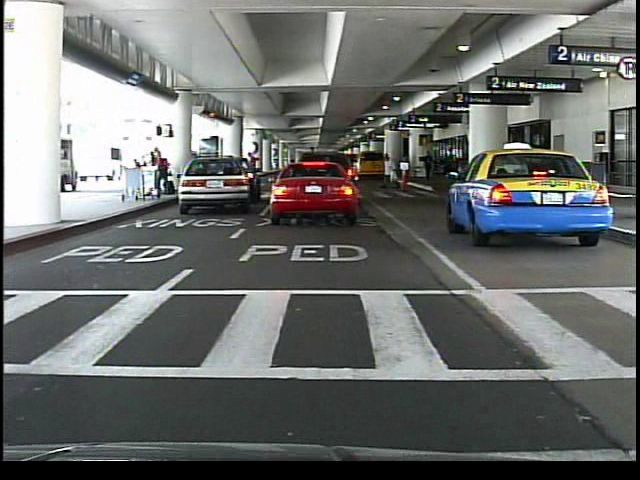person: (241, 148, 261, 202), (281, 156, 301, 207), (304, 152, 319, 202), (154, 146, 169, 196), (383, 150, 398, 188), (420, 148, 434, 183)
